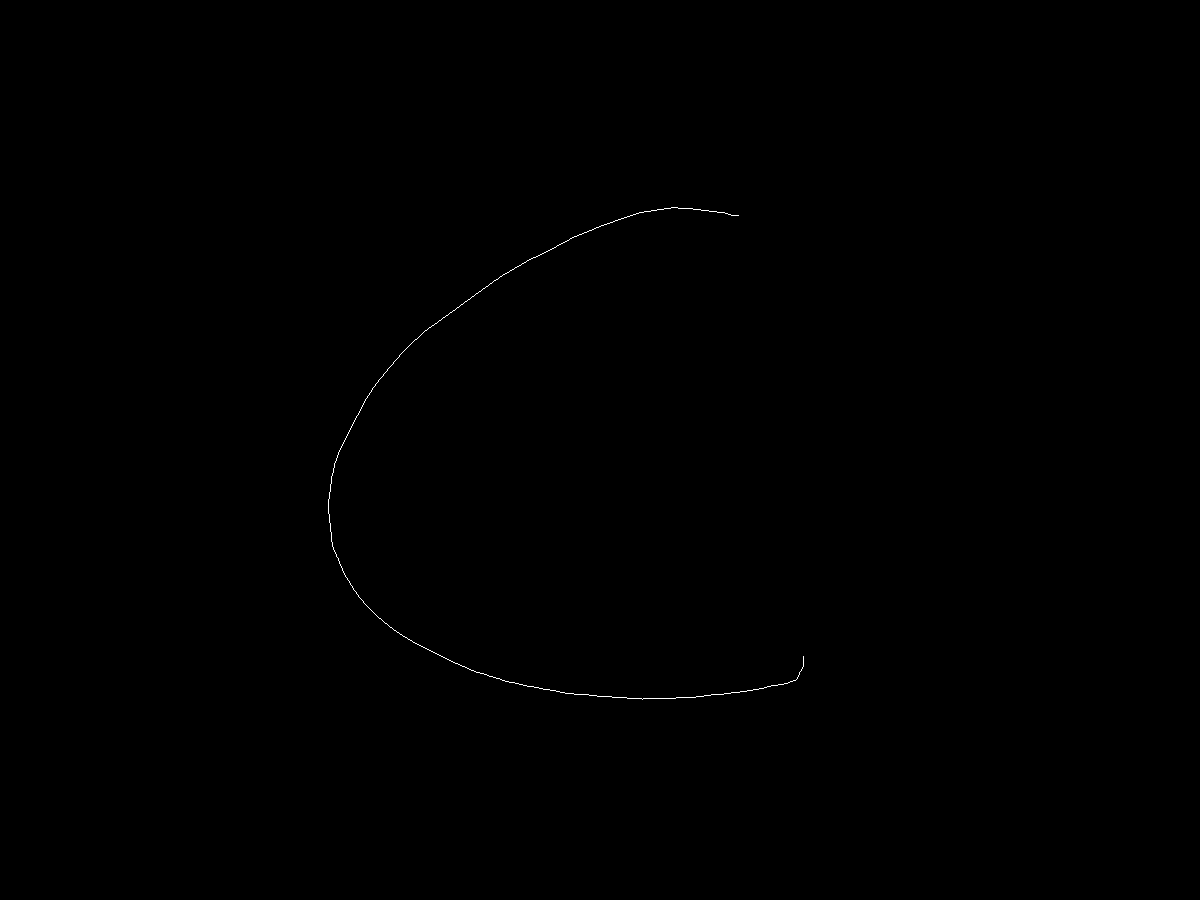dian1: (731, 203, 745, 224)
dian2: (793, 652, 821, 672)
